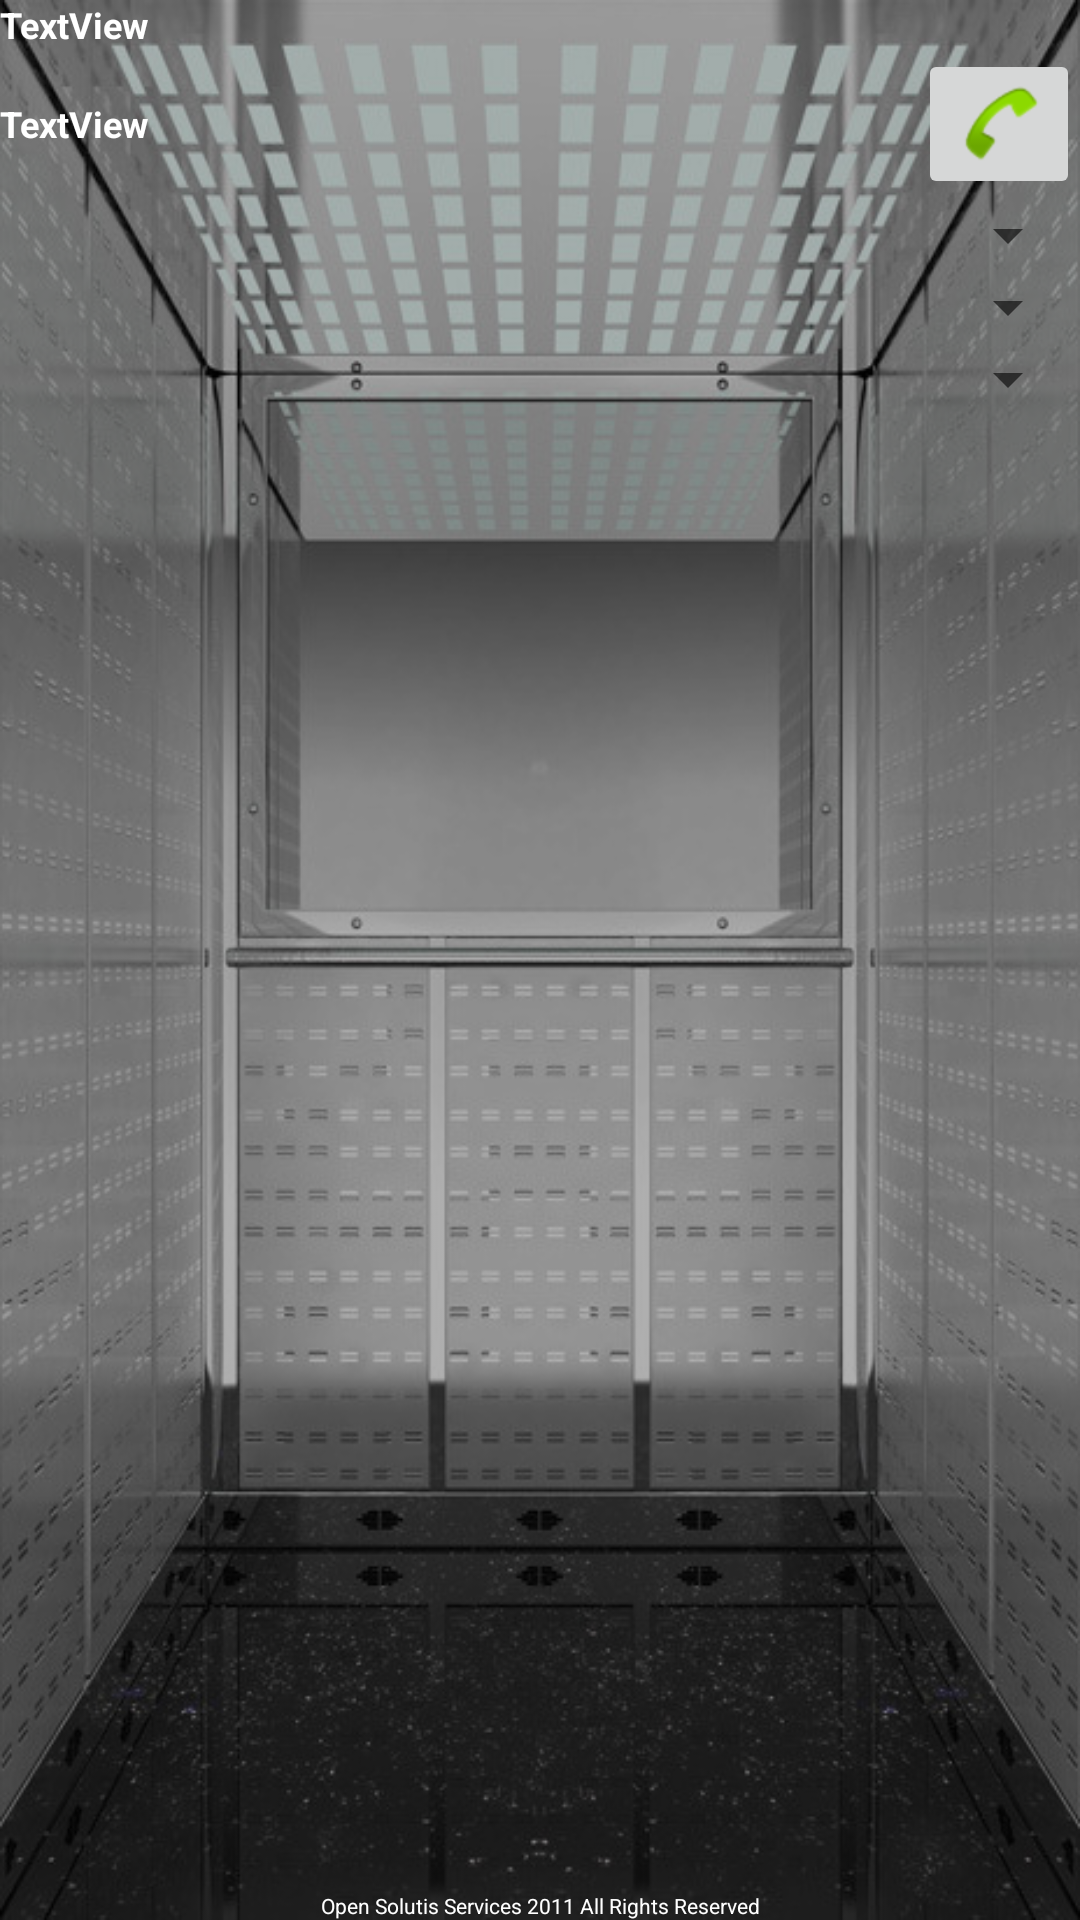

Locate icon controls on the screen. Image size 1080px×1920px, boxes as (x1, y1, x2, y2).
sym action call: (918, 49, 1077, 199)
